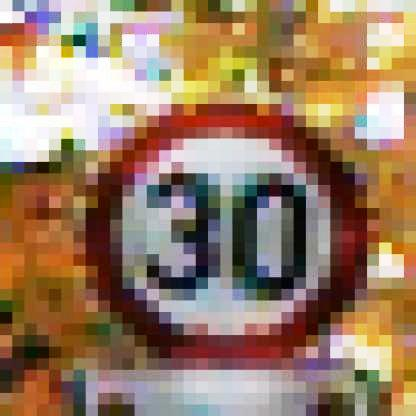Speed Limit -30-: (74, 95, 372, 373)
